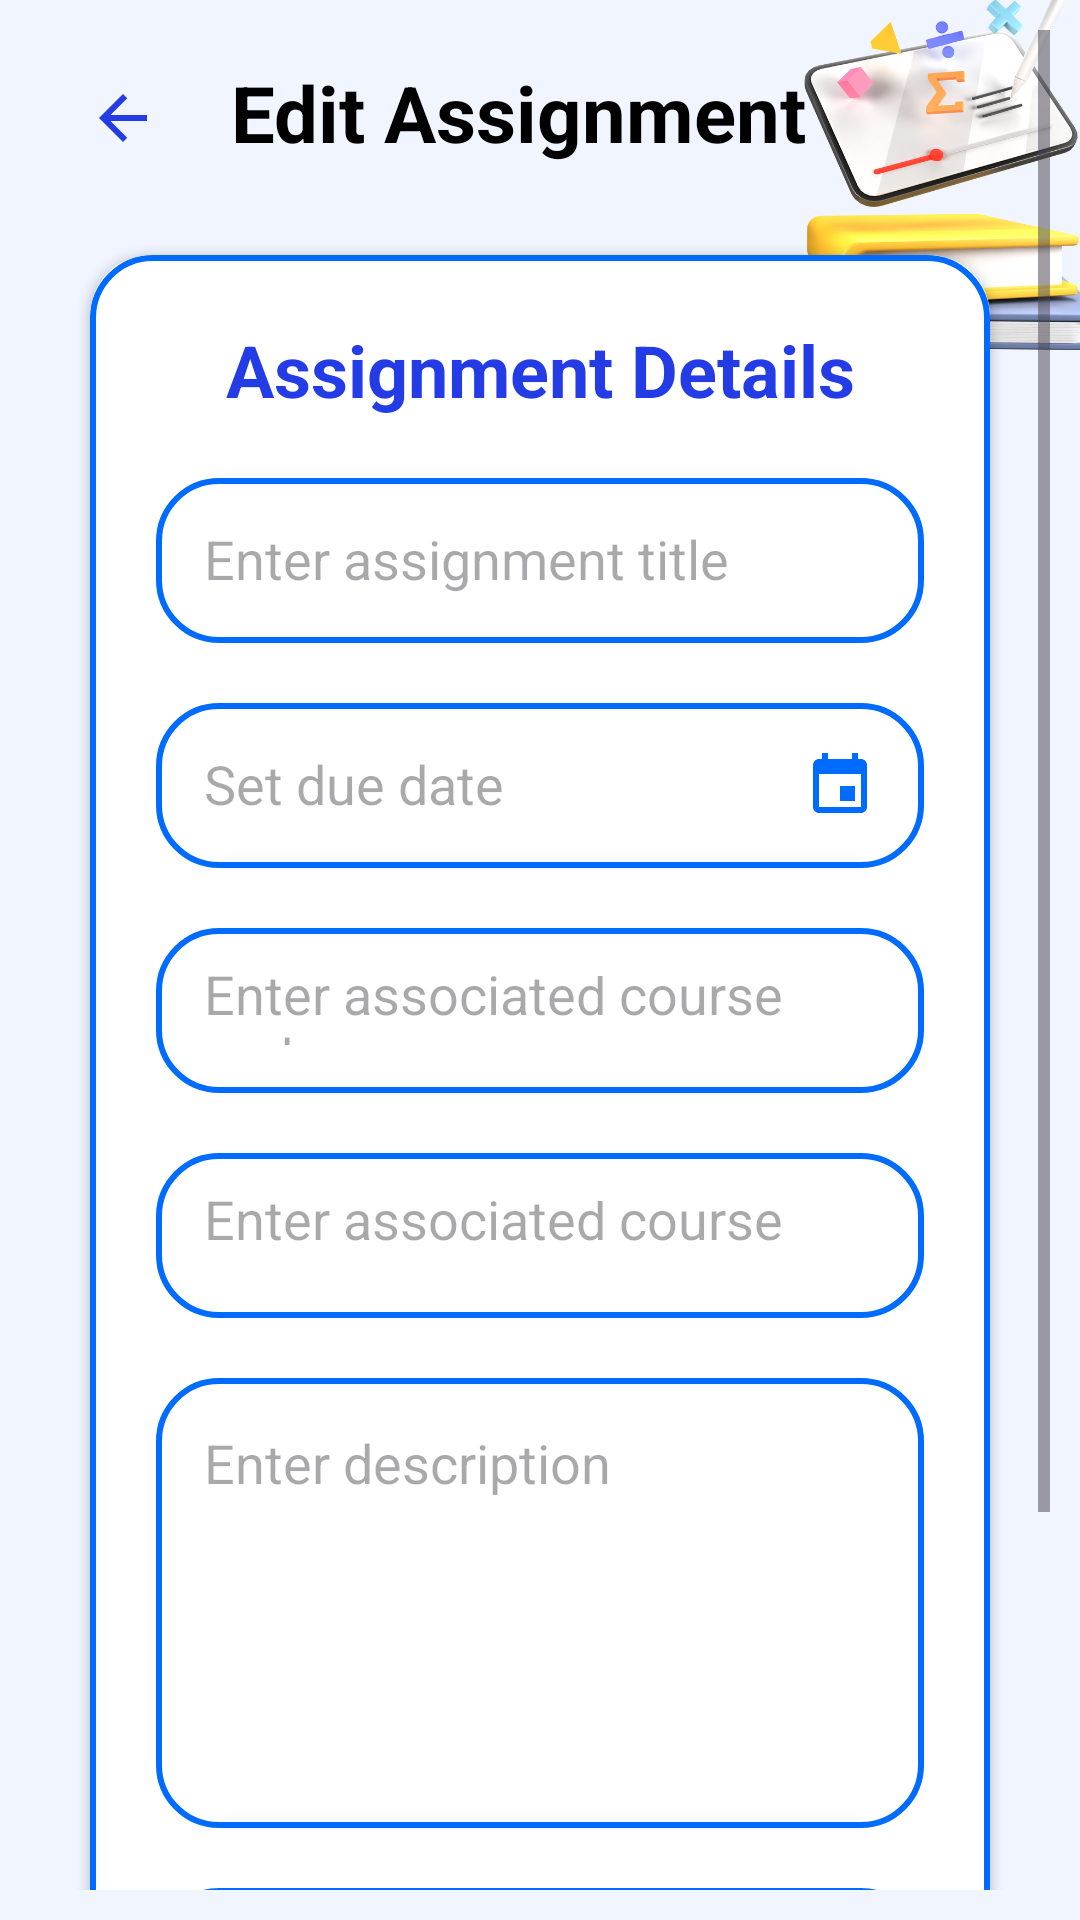

Point at icon controls on the screen. Image size 1080*1920, points as point (x, y).
arrow back: point (123, 118)
